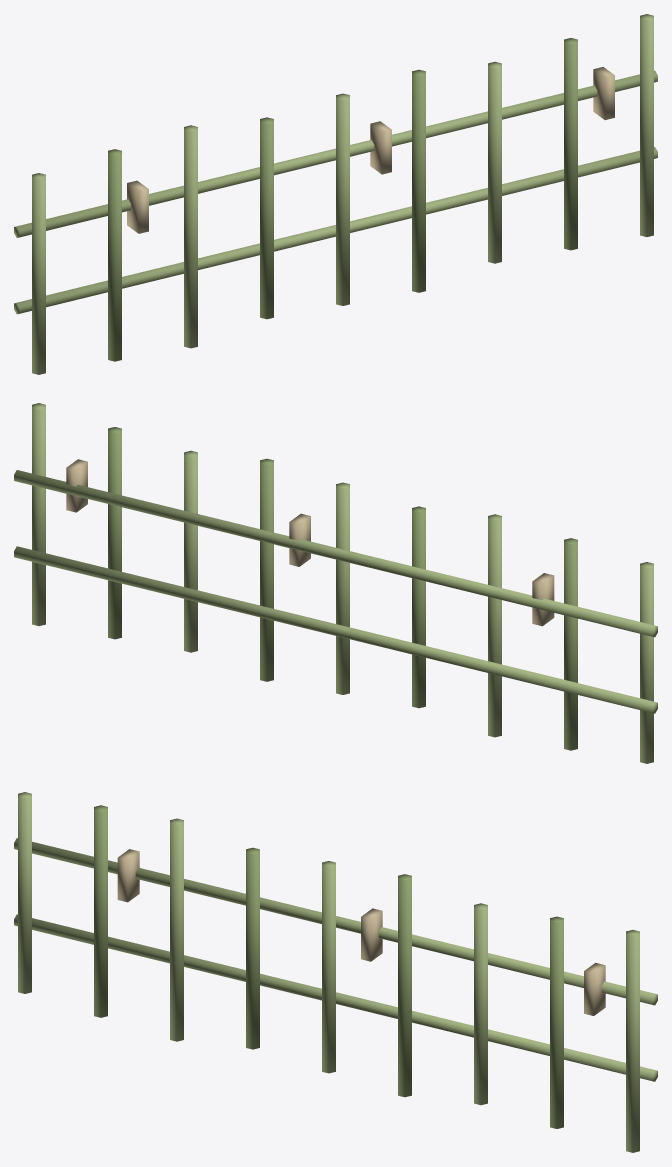
Rendered from fence_bamboo.glb.
The picture shows the model from 3 angles, top to bottom: view 1: azimuth 30°, elevation 25°; view 2: azimuth 150°, elevation 25°; view 3: azimuth 330°, elevation 25°; orthographic projection.
Visible parts, largest first — view 1: geometry_0; view 2: geometry_0; view 3: geometry_0.
Boxes of the visible parts, <box> form: geometry_0: <box>14,14,657,374</box>; geometry_0: <box>14,403,657,763</box>; geometry_0: <box>14,792,657,1152</box>.
Bounding box in the file's own units: 3.15 × 1.02 × 0.1146.
